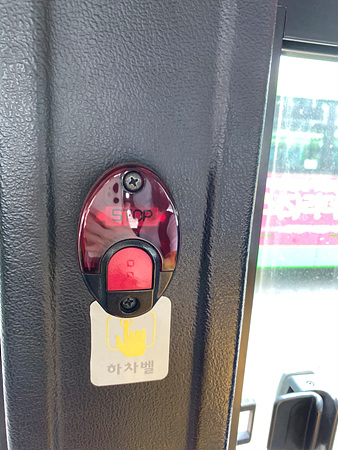bell: (75, 162, 179, 317)
